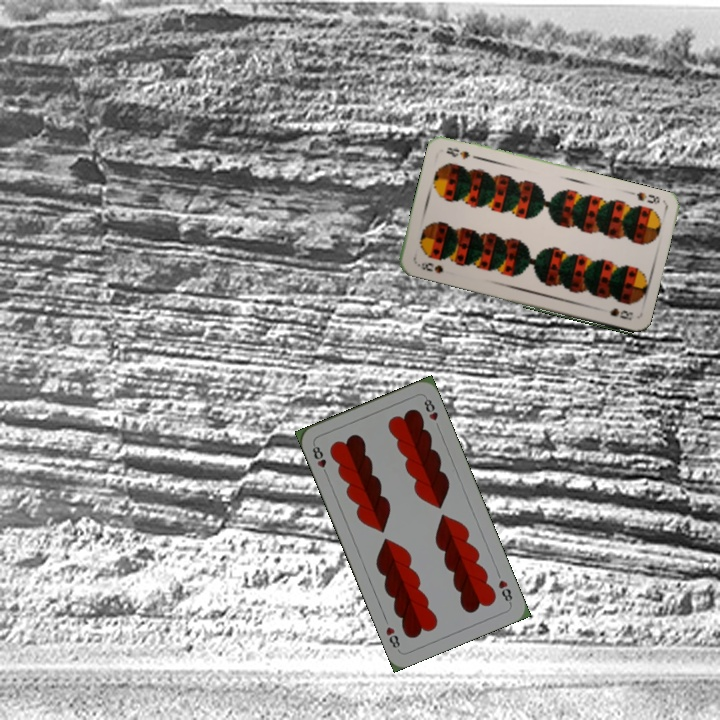H8: (308, 440, 331, 479), (494, 576, 515, 607)
S8: (625, 187, 662, 207), (413, 257, 446, 276)
